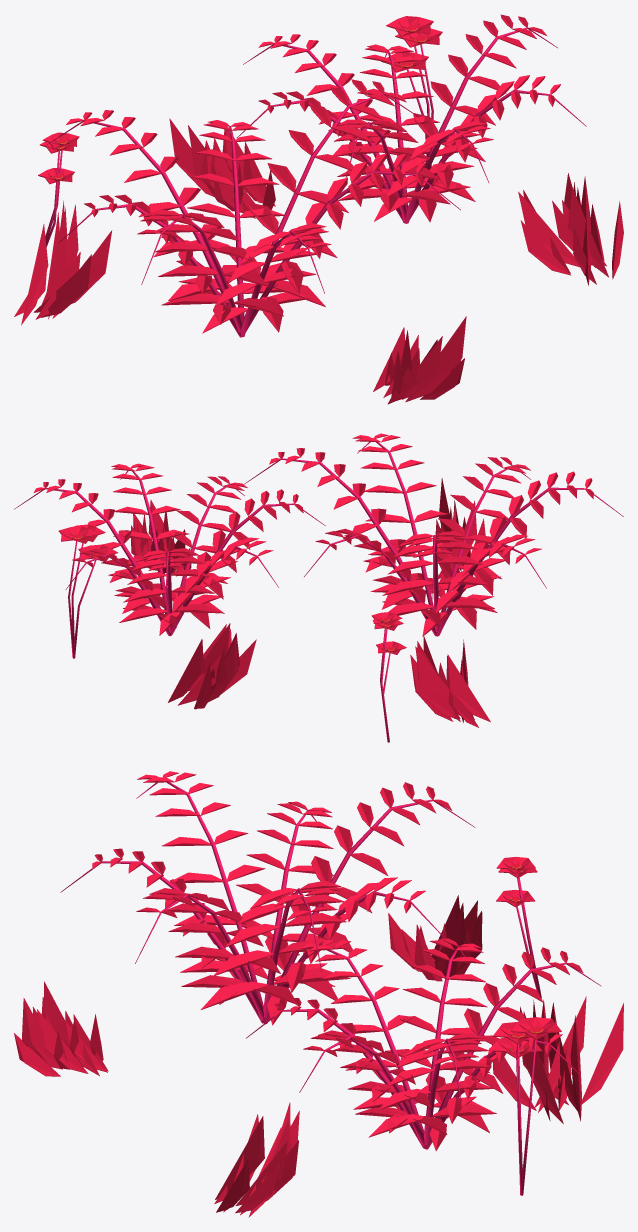
File: SM_GardenUnderstory.fbx
3 views of the same model, one above another, from view 1: azimuth 30°, elevation 25°; view 2: azimuth 150°, elevation 25°; view 3: azimuth 270°, elevation 25° (orthographic). The views are drawn at different scales.
Visible parts, largest first — view 1: SM_GardenUnderstory; view 2: SM_GardenUnderstory; view 3: SM_GardenUnderstory.
Part boxes in pixels (bbox=[...]): SM_GardenUnderstory: bbox=[14, 14, 623, 404]; SM_GardenUnderstory: bbox=[14, 433, 623, 742]; SM_GardenUnderstory: bbox=[14, 771, 623, 1217].
Size of the model in its own units: 197 by 223 by 78.58.
